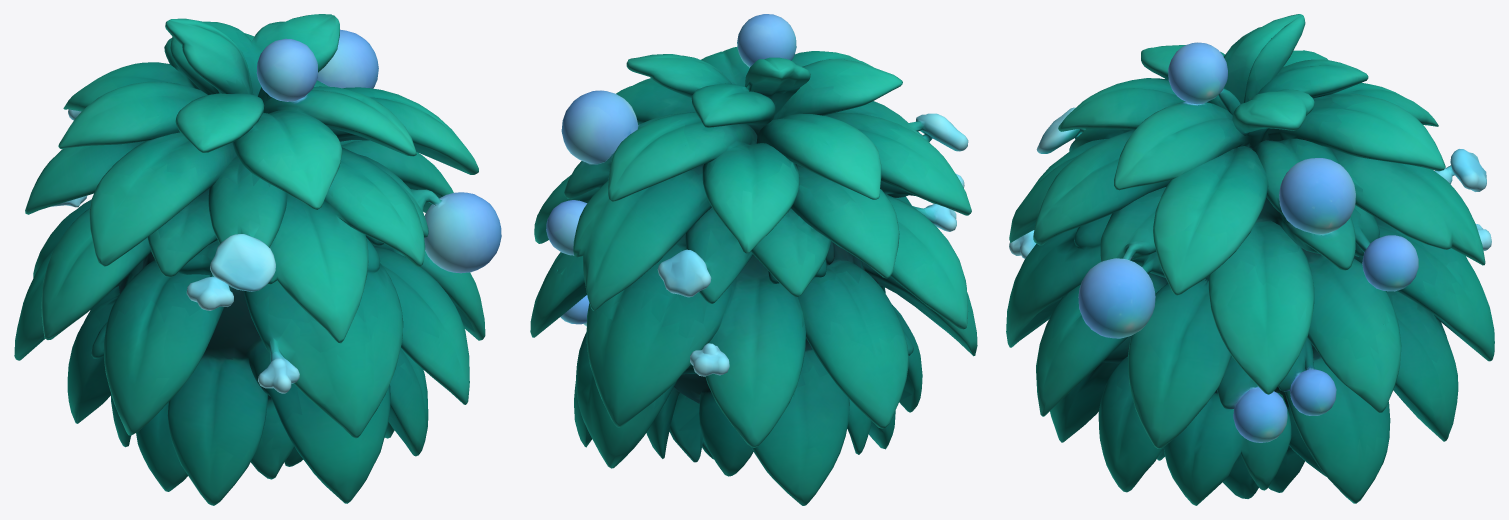
Rendered from bush_berry_teal.glb.
The picture shows the model from 3 angles, left to right: view 1: azimuth 30°, elevation 25°; view 2: azimuth 150°, elevation 25°; view 3: azimuth 270°, elevation 25°; orthographic projection. The views are drawn at different scales.
Visible parts, largest first — view 1: tripo_node_92e0043e-1c51-4602-bffd-50bc3decaf0d; view 2: tripo_node_92e0043e-1c51-4602-bffd-50bc3decaf0d; view 3: tripo_node_92e0043e-1c51-4602-bffd-50bc3decaf0d.
Boxes of the visible parts, x1,y1,x2,y2 form: tripo_node_92e0043e-1c51-4602-bffd-50bc3decaf0d: [14, 14, 501, 505]; tripo_node_92e0043e-1c51-4602-bffd-50bc3decaf0d: [530, 14, 977, 505]; tripo_node_92e0043e-1c51-4602-bffd-50bc3decaf0d: [1006, 14, 1494, 505].
Bounding box in the file's own units: 1 × 1 × 1.
1 material, 1 textured.
